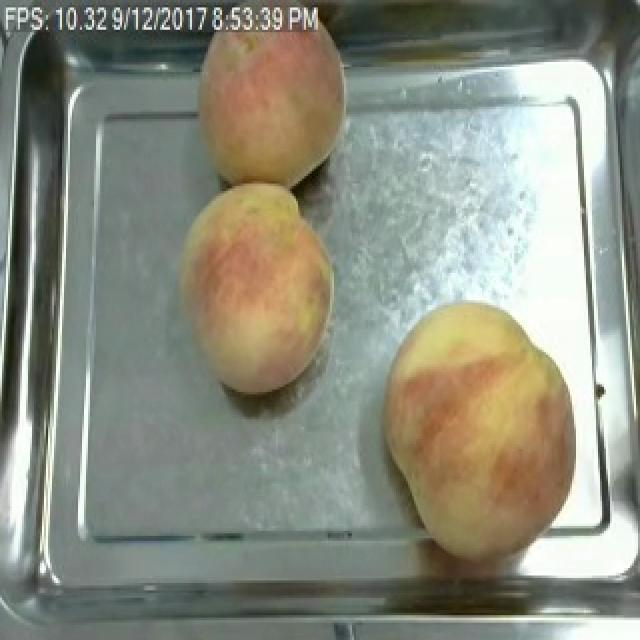Fruit: (372, 290, 588, 568), (170, 178, 344, 402), (188, 8, 356, 194)
